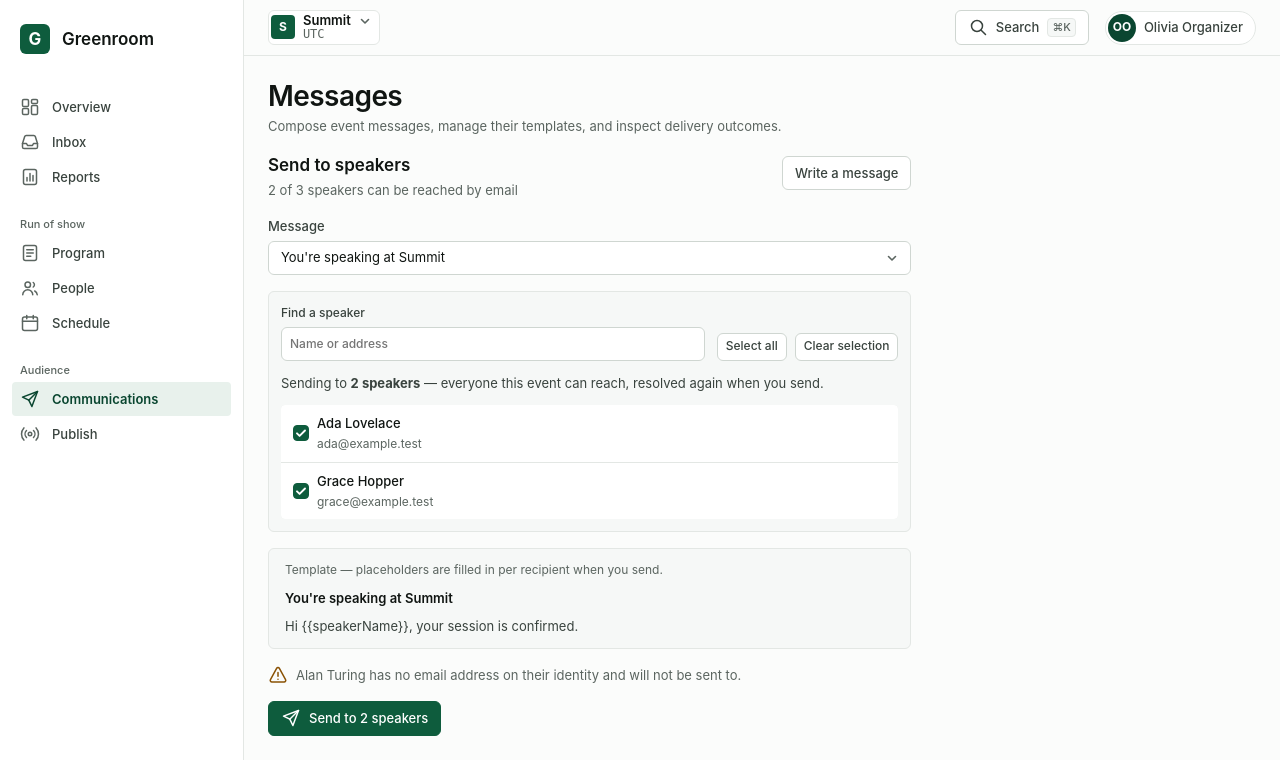
Test case: sending a message to speakers from the console › puts a refused send next to the control that asked for it
Click the button "Send to 2 speakers".
click(355, 718)  # box [268,701,441,736]
(page scrolled)
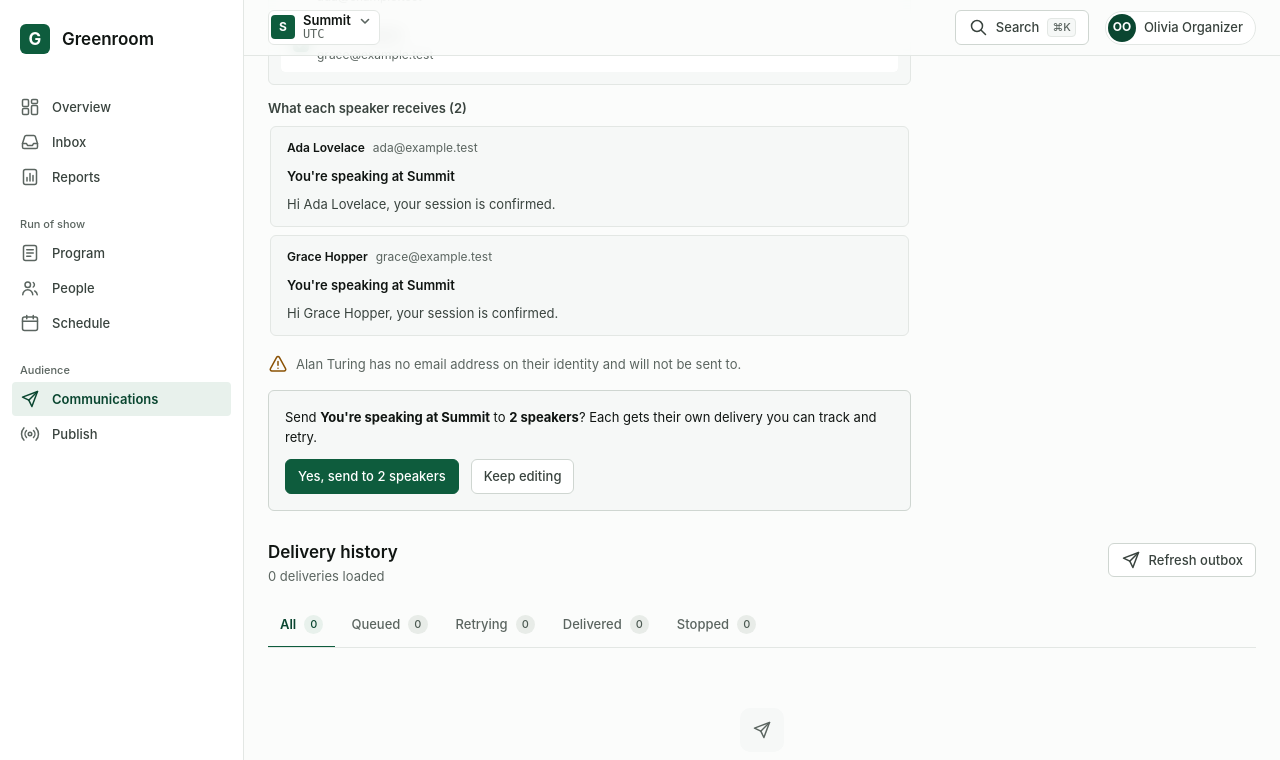
Click the button "Yes, send to 2 speakers".
click(372, 477)  # box [285,460,459,494]
(page scrolled)
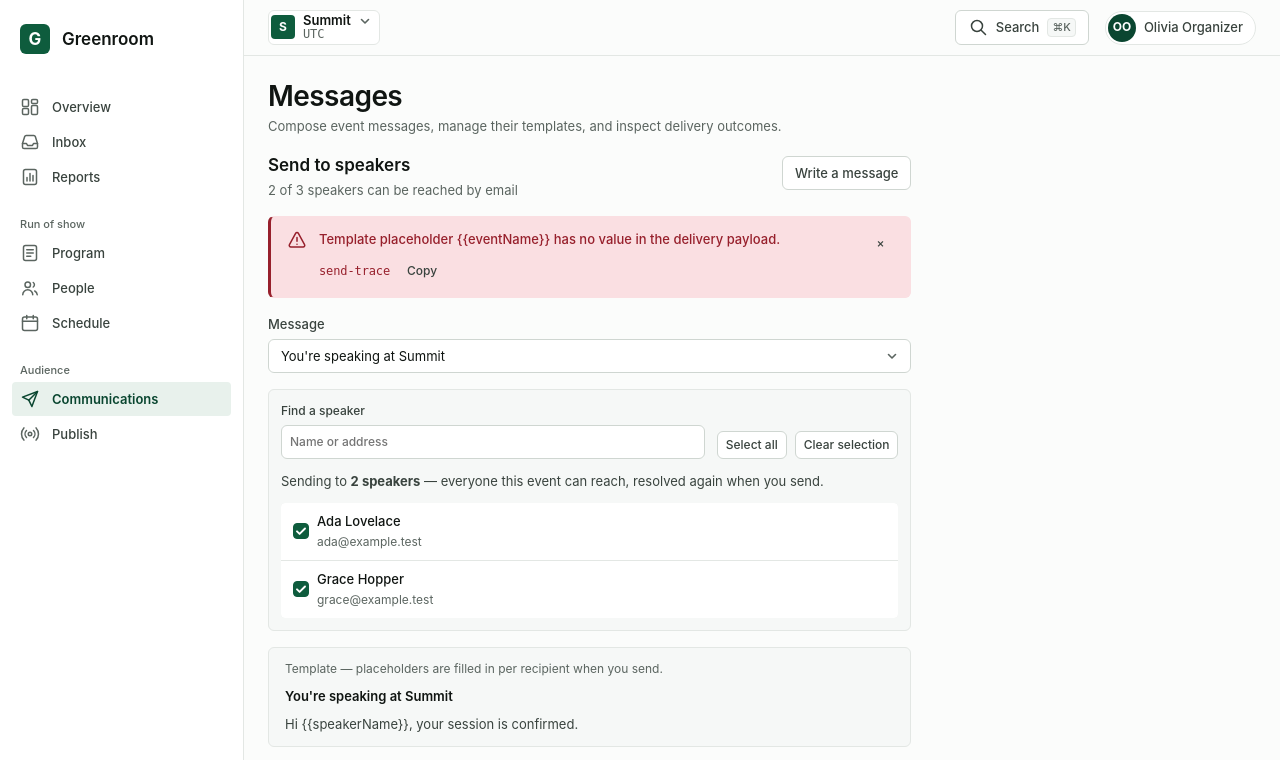
Now the message shows "{{eventName}}", box [319,231,780,247]
Now the message shows "send-trace", box [319,264,390,278]
Now the button with aria-label "Copy the reference" is shown, box [398,257,446,285]
